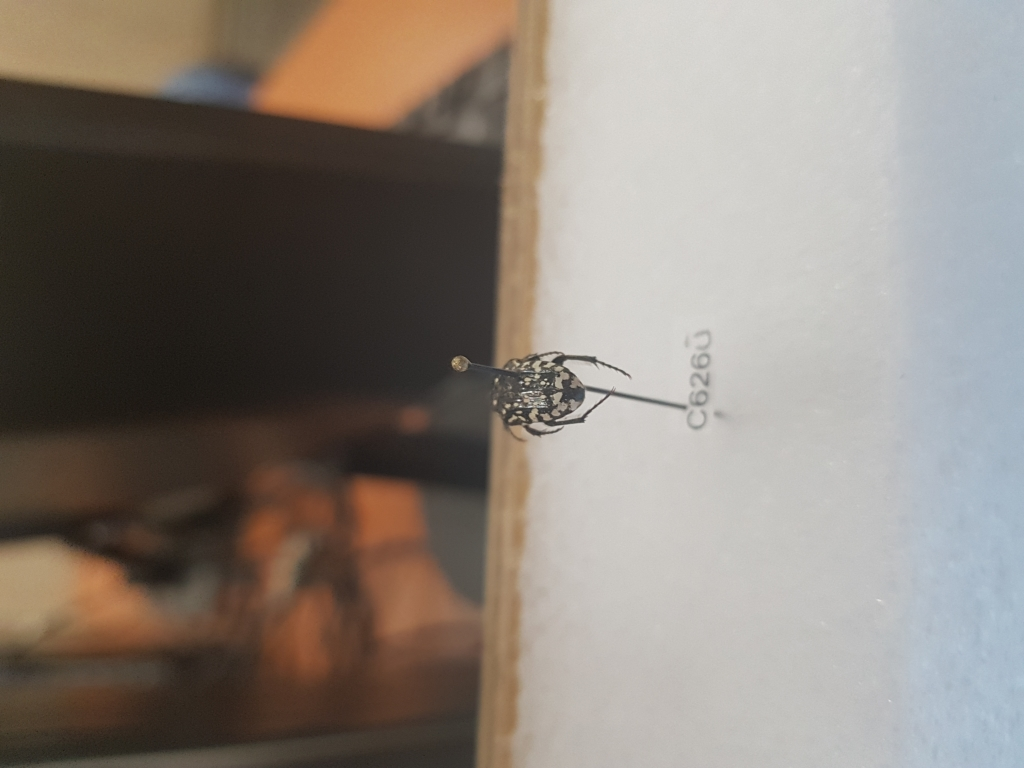Oxythyrea_funesta: (486, 348, 636, 448)
